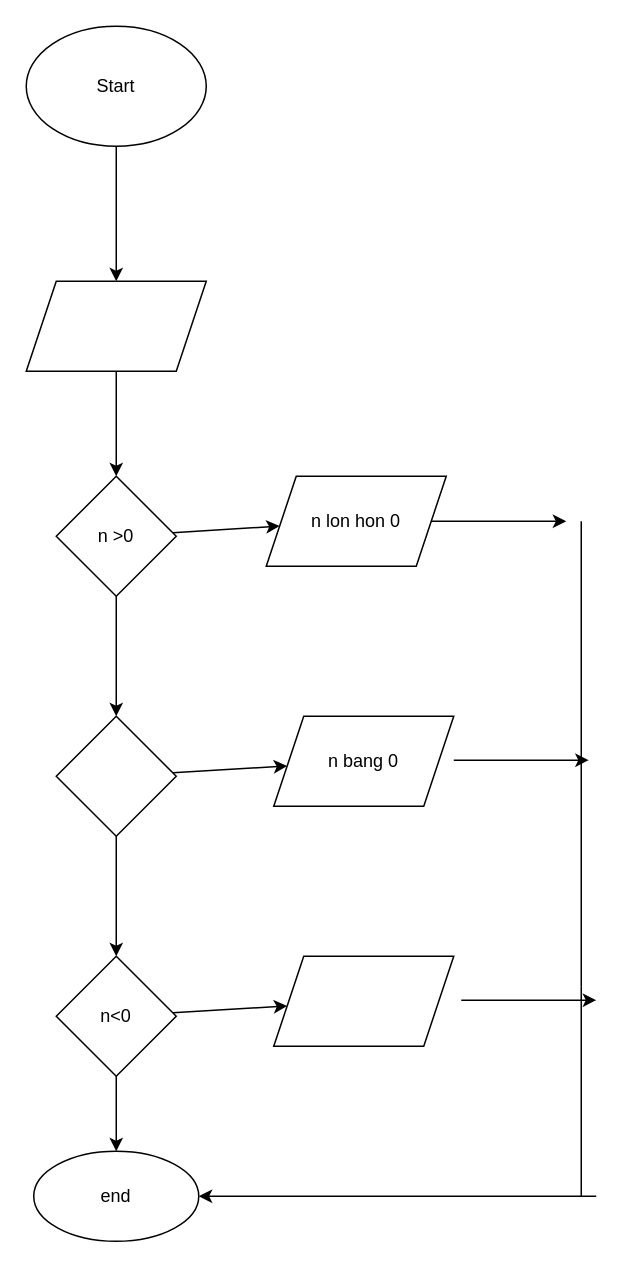
Some shapes in this 635 by 1268 pixel diagram are drawn without their labels. The centre of each missing label's shape, as x and y in pixels:
"n be hon 0" belongs at point 363,1000.
"n=0" belongs at point 115,775.
"Nhap n" belongs at point 115,325.
